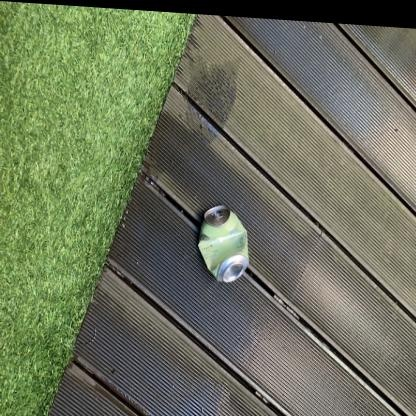trash: (198, 205, 248, 281)
